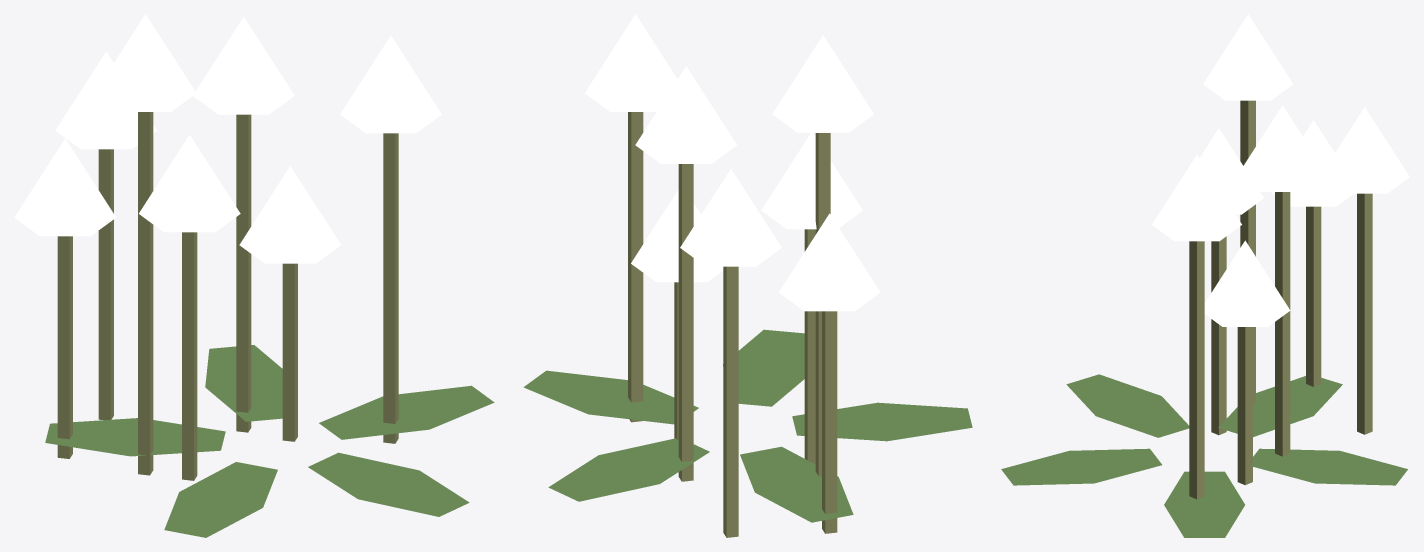
The model's file is bogbloom.glb.
The picture shows the model from 3 angles, left to right: view 1: azimuth 30°, elevation 25°; view 2: azimuth 150°, elevation 25°; view 3: azimuth 270°, elevation 25°; orthographic projection. The views are drawn at different scales.
Visible parts, largest first — view 1: bogbloom_3; view 2: bogbloom_3; view 3: bogbloom_3.
Boxes of the visible parts, left/top/right/bottom form: bogbloom_3: left=14, top=14, right=494, bottom=537; bogbloom_3: left=523, top=14, right=972, bottom=537; bogbloom_3: left=1001, top=14, right=1409, bottom=537.
Size of the model in its own units: 0.6253 by 0.6938 by 0.6331.
